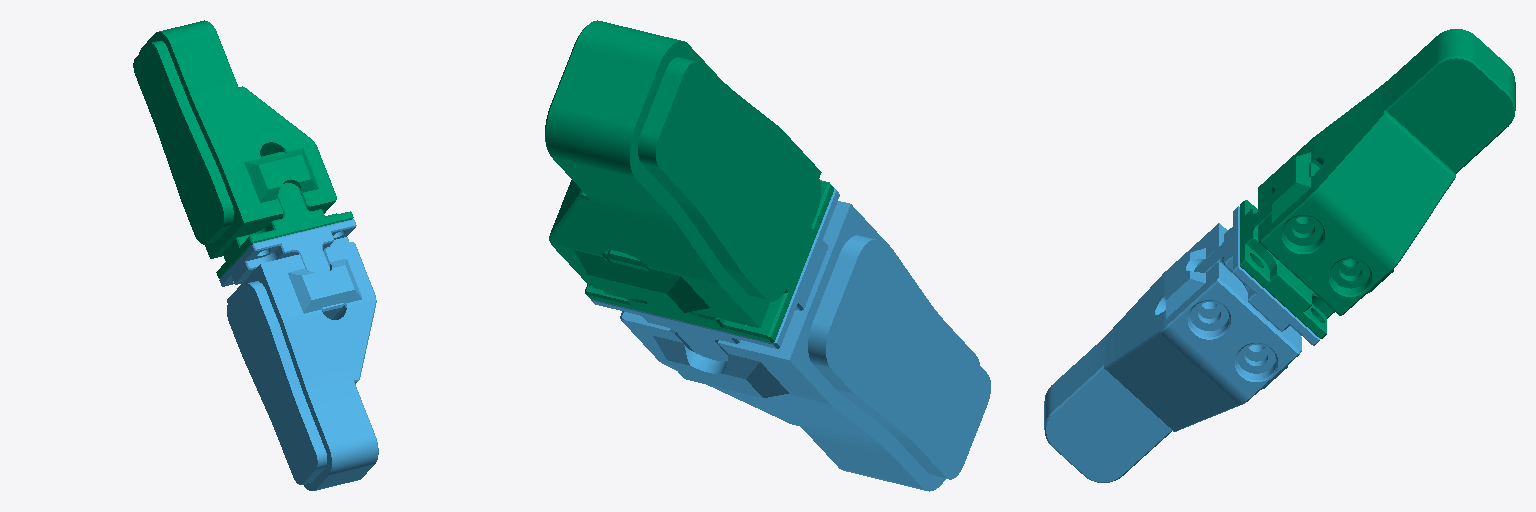
URDF robot description (panda):
<?xml version="1.0" ?>
<robot name="panda">

  <link name="panda_link0">
    <visual>
      <geometry>
        <mesh filename="../../urdf/franka_description/meshes/visual/link0.obj"/>
      </geometry>
    </visual>
    <collision>
      <geometry>
        <mesh filename="../../urdf/franka_description/meshes/collision/link0.stl"/>
      </geometry>
    </collision>
    <inertial>
      <origin rpy="0 0 0" xyz="-0.041018 -0.00014 0.049974"/>
      <mass value="0.629769"/>
      <inertia ixx="0.00315" ixy="8.2904e-07" ixz="0.00015" iyy="0.00388" iyz="8.2299e-06" izz="0.004285"/>
    </inertial>
  </link>

  <joint name="panda_joint1" type="revolute">
    <origin rpy="0 0 0" xyz="0 0 0.333"/>
    <parent link="panda_link0"/>
    <child link="panda_link1"/>
    <axis xyz="0 0 1"/>
    <limit effort="87" lower="-2.8973" upper="2.8973" velocity="2.1750"/>
    <dynamics damping="0.0" friction="0.0"/>
  </joint>

  <link name="panda_link1">
    <visual>
      <geometry>
        <mesh filename="../../urdf/franka_description/meshes/visual/link1.obj"/>
      </geometry>
    </visual>
    <collision>
      <geometry>
        <mesh filename="../../urdf/franka_description/meshes/collision/link1.stl"/>
      </geometry>
    </collision>
    <inertial>
      <origin rpy="0 0 0" xyz="0.003875 0.002081 -0.04762"/>
      <mass value="4.970684"/>
      <inertia ixx="0.70337" ixy="-0.000139" ixz="0.006772" iyy="0.70661" iyz="0.019169" izz="0.009117"/>
    </inertial>
  </link>

  <joint name="panda_joint2" type="revolute">
    <origin rpy="-1.5707963267948966 0 0" xyz="0 0 0"/>
    <parent link="panda_link1"/>
    <child link="panda_link2"/>
    <axis xyz="0 0 1"/>
    <limit effort="87" lower="-1.7628" upper="1.7628" velocity="2.1750"/>
    <dynamics damping="0.0" friction="0.0"/>
  </joint>

  <link name="panda_link2">
    <visual>
      <geometry>
        <mesh filename="../../urdf/franka_description/meshes/visual/link2.obj"/>
      </geometry>
    </visual>
    <collision>
      <geometry>
        <mesh filename="../../urdf/franka_description/meshes/collision/link2.stl"/>
      </geometry>
    </collision>
    <inertial>
      <origin rpy="0 0 0" xyz="-0.003141 -0.02872  0.003495"/>
      <mass value="0.646926"/>
      <inertia ixx="0.007962" ixy="-0.003925" ixz="0.010254" iyy="0.02811" iyz="0.000704" izz="0.025995"/>
    </inertial>
  </link>

  <joint name="panda_joint3" type="revolute">
    <origin rpy="1.5707963267948966 0 0" xyz="0 -0.316 0"/>
    <parent link="panda_link2"/>
    <child link="panda_link3"/>
    <axis xyz="0 0 1"/>
    <limit effort="87" lower="-2.8973" upper="2.8973" velocity="2.1750"/>
    <dynamics damping="0.0" friction="0.0"/>
  </joint>

  <link name="panda_link3">
    <visual>
      <geometry>
        <mesh filename="../../urdf/franka_description/meshes/visual/link3.obj"/>
      </geometry>
    </visual>
    <collision>
      <geometry>
        <mesh filename="../../urdf/franka_description/meshes/collision/link3.stl"/>
      </geometry>
    </collision>
    <inertial>
      <origin rpy="0 0 0" xyz="2.7518e-02 3.9252e-02 -6.6502e-02"/>
      <mass value="3.228604"/>
      <inertia ixx="0.037242" ixy="-0.004761" ixz="-0.011396" iyy="0.036155" iyz="-0.012805" izz="0.01083"/>
    </inertial>
  </link>

  <joint name="panda_joint4" type="revolute">
    <origin rpy="1.5707963267948966 0 0" xyz="0.0825 0 0"/>
    <parent link="panda_link3"/>
    <child link="panda_link4"/>
    <axis xyz="0 0 1"/>
    <limit effort="87" lower="-3.0718" upper="-0.0698" velocity="2.1750"/>
    <dynamics damping="0.0" friction="0.0"/>
  </joint>

  <link name="panda_link4">
    <visual>
      <geometry>
        <mesh filename="../../urdf/franka_description/meshes/visual/link4.obj"/>
      </geometry>
    </visual>
    <collision>
      <geometry>
        <mesh filename="../../urdf/franka_description/meshes/collision/link4.stl"/>
      </geometry>
    </collision>
    <inertial>
      <origin rpy="0 0 0" xyz="-5.317e-02 1.04419e-01 2.7454e-02"/>
      <mass value="3.587895"/>
      <inertia ixx="0.025853" ixy="0.007796" ixz="-0.001332" iyy="0.019552" iyz="0.008641" izz="0.028323"/>
    </inertial>
  </link>

  <joint name="panda_joint5" type="revolute">
    <origin rpy="-1.5707963267948966 0 0" xyz="-0.0825 0.384 0"/>
    <parent link="panda_link4"/>
    <child link="panda_link5"/>
    <axis xyz="0 0 1"/>
    <limit effort="12" lower="-2.8973" upper="2.8973" velocity="2.6100"/>
    <dynamics damping="0.0" friction="0.0"/>
  </joint>

  <link name="panda_link5">
    <visual>
      <geometry>
        <mesh filename="../../urdf/franka_description/meshes/visual/link5.obj"/>
      </geometry>
    </visual>
    <collision>
      <geometry>
        <mesh filename="../../urdf/franka_description/meshes/collision/link5.stl"/>
      </geometry>
    </collision>
    <inertial>
      <origin rpy="0 0 0" xyz="-1.1953e-02 4.1065e-02 -3.8437e-02"/>
      <mass value="1.225946"/>
      <inertia ixx="0.035549" ixy="-0.002117" ixz="-0.004037" iyy="0.029474" iyz="0.000229" izz="0.008627"/>
    </inertial>
  </link>

  <joint name="panda_joint6" type="revolute">
    <origin rpy="1.5707963267948966 0 0" xyz="0 0 0"/>
    <parent link="panda_link5"/>
    <child link="panda_link6"/>
    <axis xyz="0 0 1"/>
    <limit effort="12" lower="-0.0175" upper="3.7525" velocity="2.6100"/>
    <dynamics damping="0.0" friction="0.0"/>
  </joint>

  <link name="panda_link6">
    <visual>
      <geometry>
        <mesh filename="../../urdf/franka_description/meshes/visual/link6.obj"/>
      </geometry>
    </visual>
    <collision>
      <geometry>
        <mesh filename="../../urdf/franka_description/meshes/collision/link6.stl"/>
      </geometry>
    </collision>
    <inertial>
      <origin rpy="0 0 0" xyz="6.0149e-02 -1.4117e-02 -1.0517e-02"/>
      <mass value="1.666555"/>
      <inertia ixx="0.001964" ixy="0.000109" ixz="-0.001158" iyy="0.004354" iyz="0.000341" izz="0.005433"/>
    </inertial>
  </link>

  <joint name="panda_joint7" type="revolute">
    <origin rpy="1.5707963267948966 0 0" xyz="0.088 0 0"/>
    <parent link="panda_link6"/>
    <child link="panda_link7"/>
    <axis xyz="0 0 1"/>
    <limit effort="12" lower="-2.8973" upper="2.8973" velocity="2.6100"/>
    <dynamics damping="0.0" friction="0.0"/>
  </joint>

  <link name="panda_link7">
    <visual>
      <geometry>
        <mesh filename="../../urdf/franka_description/meshes/visual/link7.obj"/>
      </geometry>
    </visual>
    <collision>
      <geometry>
        <mesh filename="../../urdf/franka_description/meshes/collision/link7.stl"/>
      </geometry>
    </collision>
    <inertial>
      <origin rpy="0 0 0" xyz="1.0517e-02 -4.252e-03 6.1597e-02"/>
      <mass value="0.735522"/>
      <inertia ixx="0.012516" ixy="-0.000428" ixz="-0.001196" iyy="0.010027" iyz="-0.000741" izz="0.004815"/>
    </inertial>
  </link>

  <joint name="panda_hand_joint" type="fixed">
    <parent link="panda_link7"/>
    <child link="panda_hand"/>
    <origin rpy="0 0 -0.7853981633974483" xyz="0 0 0.107"/>
  </joint>

  <link name="panda_hand">
    <visual>
      <geometry>
        <mesh filename="../../urdf/franka_description/meshes/visual/hand.obj"/>
      </geometry>
    </visual>
    <collision>
      <geometry>
        <mesh filename="../../urdf/franka_description/meshes/collision/hand.stl"/>
      </geometry>
    </collision>
    <inertial>
      <origin rpy="0 0 0" xyz="-0.01 0 0.03"/>
      <mass value="0.73"/>
      <inertia ixx="0.001" ixy="0" ixz="0" iyy="0.0025" iyz="0" izz="0.0017"/>
    </inertial>
  </link>

  <joint name="panda_finger_joint1" type="prismatic">
    <parent link="panda_hand"/>
    <child link="panda_leftfinger"/>
    <origin rpy="0 0 0" xyz="0 0 0.0584"/>
    <axis xyz="0 1 0"/>
    <limit effort="70" lower="0.0" upper="0.040" velocity="0.050"/>
    <dynamics damping="0.0" friction="5.0"/>
  </joint>

  <joint name="panda_finger_joint2" type="prismatic">
    <parent link="panda_hand"/>
    <child link="panda_rightfinger"/>
    <origin rpy="0 0 0" xyz="0 0 0.0584"/>
    <axis xyz="0 -1 0"/>
    <limit effort="70" lower="0.0" upper="0.040" velocity="0.050"/>
    <dynamics damping="0.0" friction="5.0"/>
  </joint>

  <link name="panda_leftfinger">
    <visual>
      <geometry>
        <mesh filename="../mesh/industreal_franka_table/industreal_franka_finger_rubber_viz.obj"/>
      </geometry>
    </visual>
    <!--finger-->
    <collision>
      <origin rpy="0 0 0" xyz="0.0 0.0155 0.027"/>
      <geometry>
        <box size="0.021 0.026 0.054"/>
      </geometry>
    </collision>
    <!--fingerpad-->
    <collision>
      <origin rpy="0 0 0" xyz="0.0 0.00125 0.02923232"/>
      <geometry>
        <box size="0.01224264 0.0025 0.04377800"/>
      </geometry>
    </collision>
    <inertial>
      <origin rpy="0 0 0" xyz="0 0.0114 0.0231"/>
      <mass value="0.0297"/>
      <inertia ixx="7.552e-06" ixy="0" ixz="0" iyy="7.159e-06" iyz="1.043e-6" izz="2.352e-06"/>
    </inertial>
  </link>

  <link name="panda_rightfinger">
    <visual>
      <origin rpy="0 0 3.141592653589793" xyz="0 0 0"/>
      <geometry>
        <mesh filename="../mesh/industreal_franka_table/industreal_franka_finger_rubber_viz.obj"/>
      </geometry>
    </visual>
    <!--finger-->
    <collision>
      <origin rpy="0 0 0" xyz="0.0 -0.0155 0.027"/>
      <geometry>
        <box size="0.021 0.026 0.054"/>
      </geometry>
    </collision>
    <!--fingerpad-->
    <collision>
      <origin rpy="0 0 0" xyz="0.0 -0.00125 0.02923232"/>
      <geometry>
        <box size="0.01224264 0.0025 0.04377800"/>
      </geometry>
    </collision>
    <inertial>
      <origin rpy="0 0 3.141592653589793" xyz="0 0.0114 0.0231"/>
      <mass value="0.0297"/>
      <inertia ixx="7.552e-06" ixy="0" ixz="0" iyy="7.159e-06" iyz="1.043e-6" izz="2.352e-06"/>
    </inertial>
  </link>

  <!--Used for calculating pose and Jacobian.
  Joint connects hand to dummy link located at midpoint between centers of original fingerpads (when fingers are mirrored).-->
  <joint name="panda_fingertip_centered_joint" type="fixed">
      <parent link="panda_hand"/>
      <child link="panda_fingertip_centered"/>
      <origin rpy="0 0 0" xyz="0 0 0.1034"/>
  </joint>

  <link name="panda_fingertip_centered">
    <inertial>
      <origin rpy="0 0 0" xyz="0 0 0"/>
      <mass value="1.0e-6"/>
      <inertia ixx="1.0e-09" ixy="0" ixz="0" iyy="1.0e-09" iyz="0" izz="1.0e-09"/>
    </inertial>
  </link>

</robot>

--- Render facts (derived) ---
3 views of the same robot in one strip: view 1: azimuth 30°, elevation 25°; view 2: azimuth 150°, elevation 25°; view 3: azimuth 270°, elevation 25° (orthographic).
Robot: panda — 12 links, 11 joints (7 revolute, 2 prismatic, 2 fixed); root link panda_link0; default pose: joints at zero except 1 at the middle of their limits (panda_joint4 = -1.57).
Links seen in each view (by area): view 1: panda_leftfinger, panda_rightfinger; view 2: panda_rightfinger, panda_leftfinger; view 3: panda_rightfinger, panda_leftfinger.
Link boxes in pixels (x1=…): panda_leftfinger: x1=219, y1=219, x2=378, y2=490; panda_rightfinger: x1=133, y1=20, x2=353, y2=278; panda_rightfinger: x1=545, y1=20, x2=833, y2=342; panda_leftfinger: x1=591, y1=188, x2=990, y2=491; panda_rightfinger: x1=1240, y1=29, x2=1515, y2=338; panda_leftfinger: x1=1044, y1=206, x2=1319, y2=482.
Bounding box of the posed robot: 0.0285 × 0.085 × 0.085 m (x, y, z).
2 mesh visuals loaded from 10 distinct referenced files (1 OBJ); not drawn: 9 (reference not matched to a file when rendering).